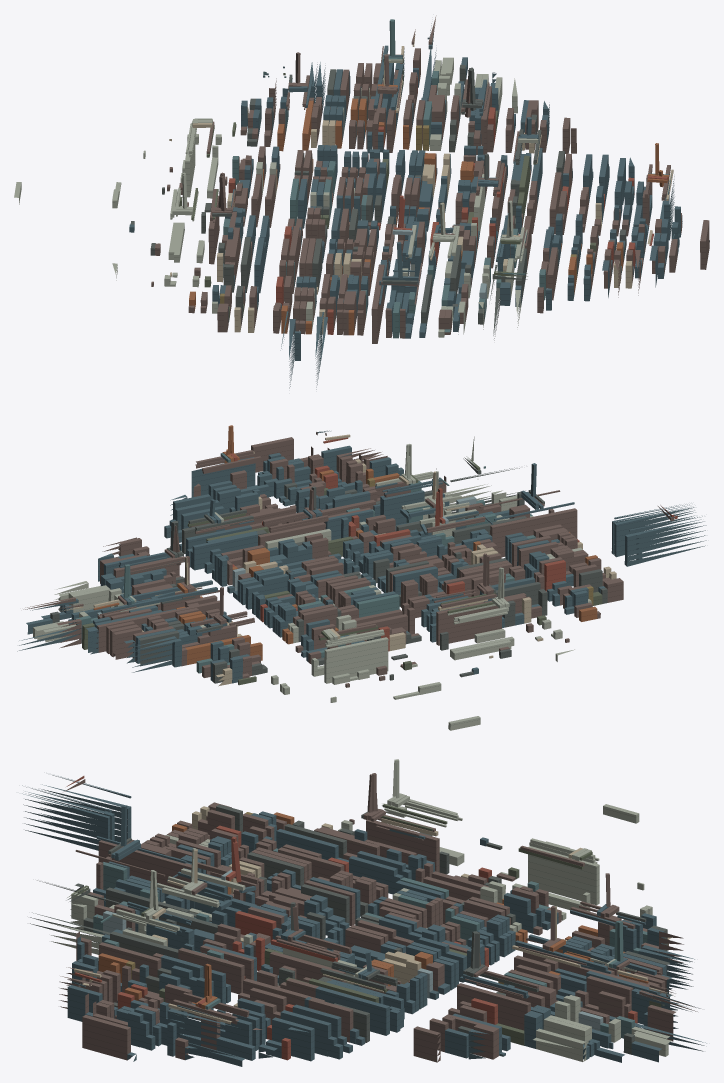
File: terminal-1---139_-18.glb
3 renders of one model, top to bottom at view 1: azimuth 30°, elevation 25°; view 2: azimuth 150°, elevation 25°; view 3: azimuth 270°, elevation 25°, orthographic. The views are drawn at different scales.
Visible parts, largest first — view 1: measured-industrial; view 2: measured-industrial; view 3: measured-industrial.
Part boxes in pixels (x1,y1,x2,y2): measured-industrial: (14, 15, 709, 389); measured-industrial: (17, 425, 706, 730); measured-industrial: (22, 759, 706, 1066).
Bounding box in the file's own units: 262 × 44.06 × 295.
